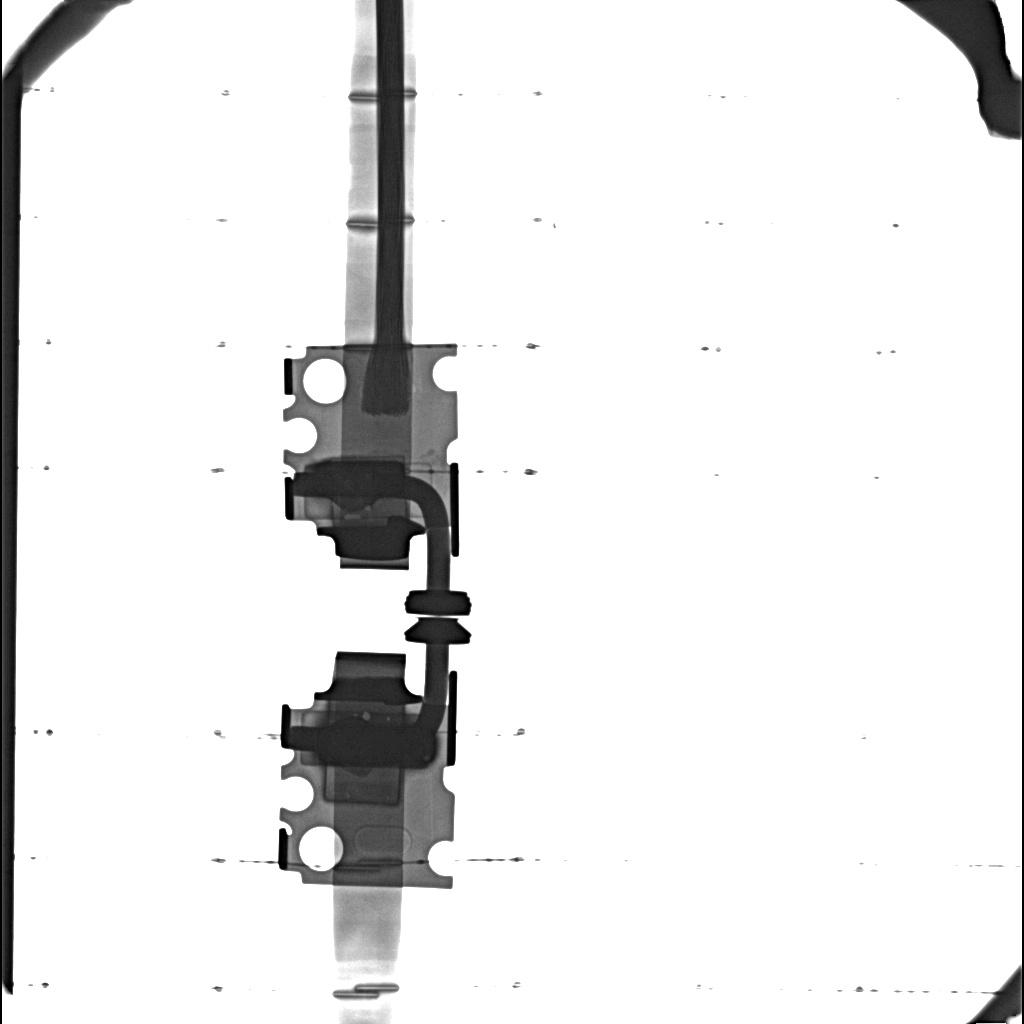气孔: (323, 768, 402, 805), (324, 454, 403, 461)
气泡: (363, 712, 369, 719)
水纹: (318, 718, 433, 767), (313, 460, 403, 497)
